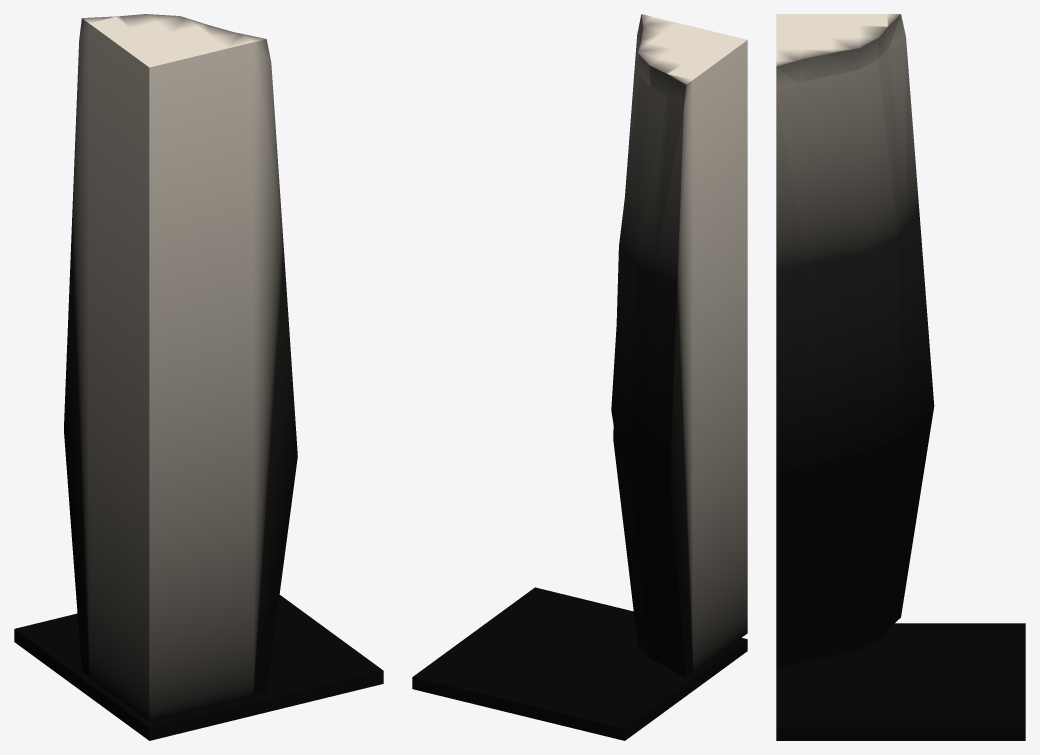
Rendered from SM_VKI_Ground_Cave_OXXX_Q00.fbx.
The picture shows the model from 3 angles, left to right: view 1: azimuth 30°, elevation 25°; view 2: azimuth 150°, elevation 25°; view 3: azimuth 270°, elevation 25°; orthographic projection. The views are drawn at different scales.
Visible parts, largest first — view 1: SM_VKI_Ground_Cave_OXXX_Q00.001; view 2: SM_VKI_Ground_Cave_OXXX_Q00.001; view 3: SM_VKI_Ground_Cave_OXXX_Q00.001.
Boxes of the visible parts, x1,y1,x2,y2 form: SM_VKI_Ground_Cave_OXXX_Q00.001: [14, 14, 383, 740]; SM_VKI_Ground_Cave_OXXX_Q00.001: [412, 14, 747, 740]; SM_VKI_Ground_Cave_OXXX_Q00.001: [776, 14, 1025, 740].
Size of the model in its own units: 1.5 by 4.12 by 1.5.
